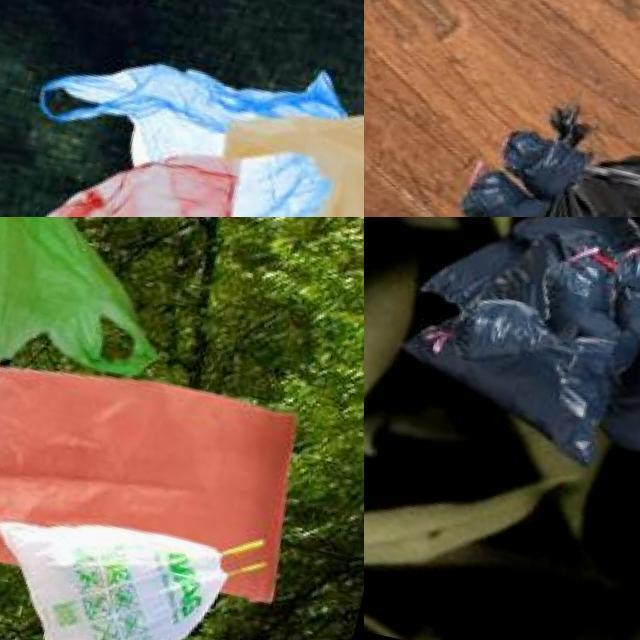waste: (21, 23, 350, 217), (414, 218, 640, 444), (0, 217, 197, 469), (0, 494, 237, 640), (202, 55, 364, 217), (429, 126, 640, 217), (491, 116, 596, 208)
